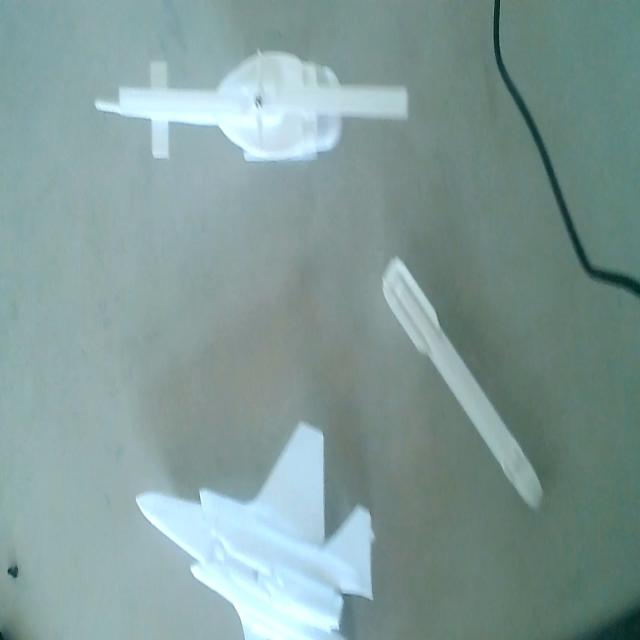Helicopter: (95, 44, 411, 174)
Jet: (131, 426, 378, 640)
Rocket: (380, 252, 546, 514)
